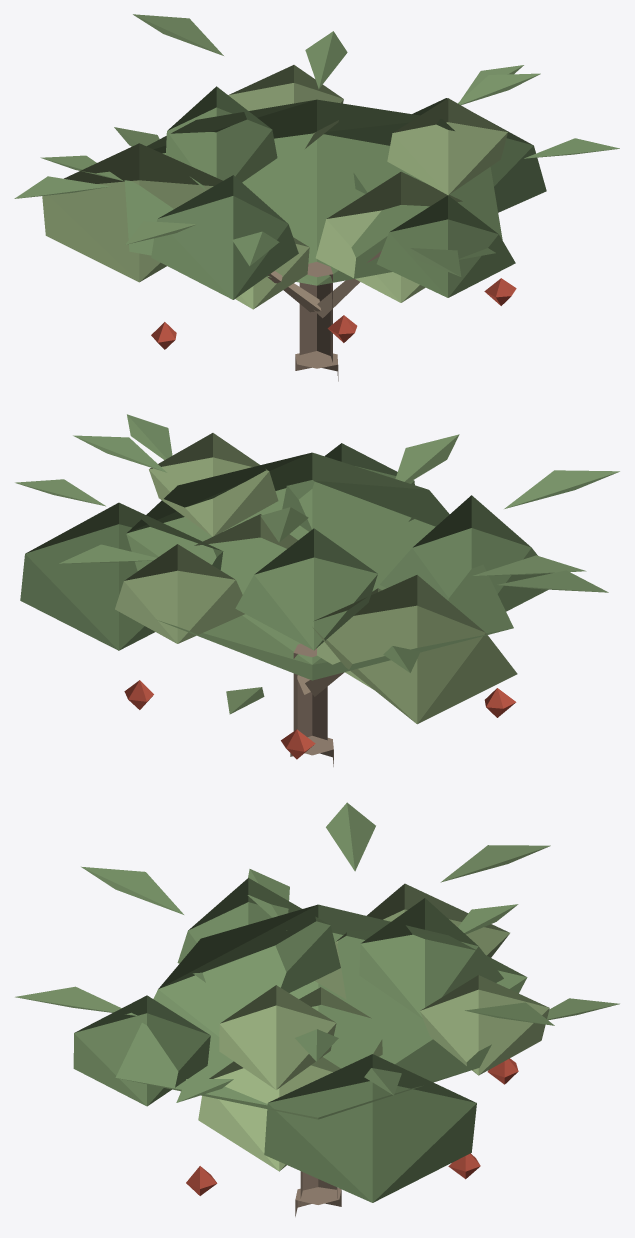
The model's file is shu.cha@fruiting__summer.glb.
3 renders of one model, top to bottom at view 1: azimuth 30°, elevation 25°; view 2: azimuth 150°, elevation 25°; view 3: azimuth 270°, elevation 25°, orthographic. The views are drawn at different scales.
Parts seen in each view (by area): view 1: shu.cha@fruiting__summer; view 2: shu.cha@fruiting__summer; view 3: shu.cha@fruiting__summer.
Boxes of the visible parts, x1,y1,x2,y2 form: shu.cha@fruiting__summer: (14, 14, 619, 381); shu.cha@fruiting__summer: (15, 414, 619, 766); shu.cha@fruiting__summer: (15, 802, 619, 1216).
Bounding box in the file's own units: 4.72 × 2.57 × 4.31.
